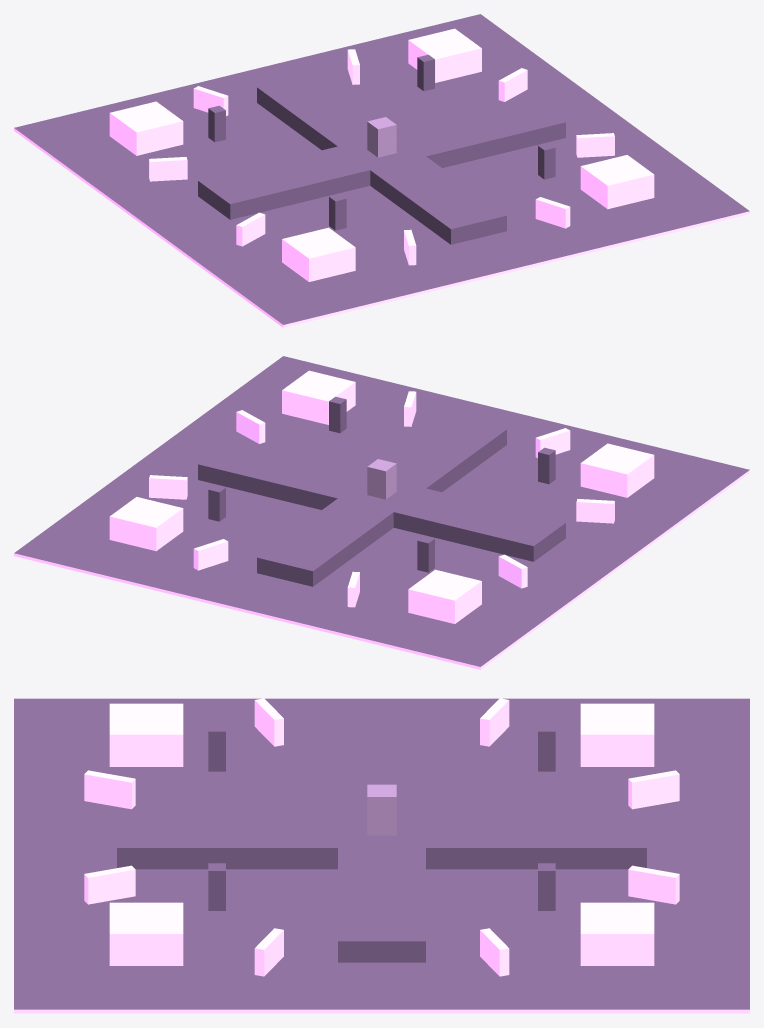
Rendered from Arena_World4_Blockout.fbx.
3 renders of one model, top to bottom at view 1: azimuth 30°, elevation 25°; view 2: azimuth 150°, elevation 25°; view 3: azimuth 270°, elevation 25°, orthographic. The views are drawn at different scales.
Visible parts, largest first — view 1: Arena_World4_Blockout; view 2: Arena_World4_Blockout; view 3: Arena_World4_Blockout.
Part boxes in pixels (x1,y1,x2,y2): Arena_World4_Blockout: (14,14,749,327); Arena_World4_Blockout: (14,356,749,669); Arena_World4_Blockout: (14,698,749,1013).
Size of the model in its own units: 50 by 5.05 by 50.
